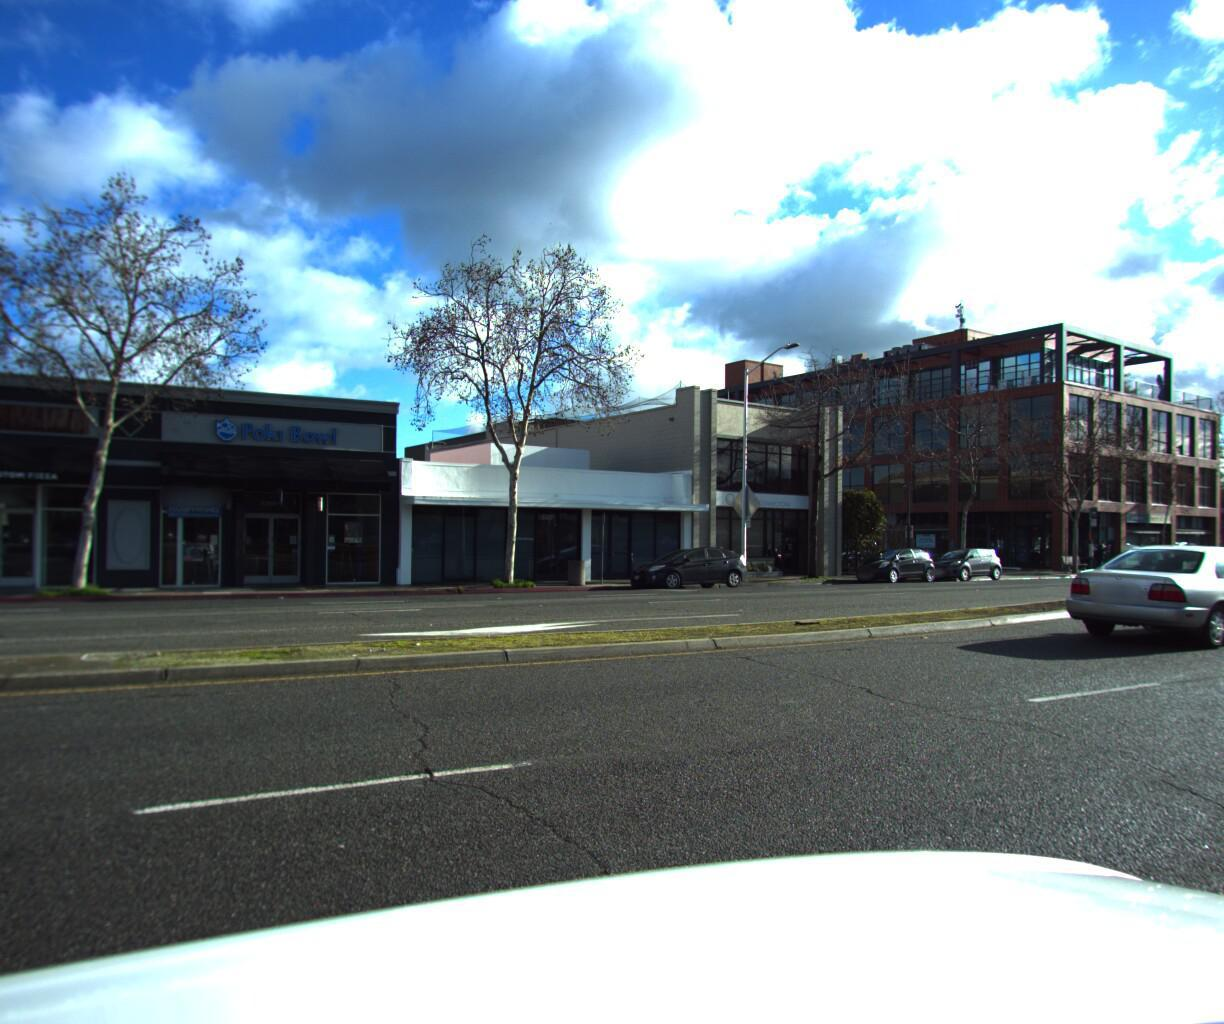car: (1040, 536, 1224, 650), (618, 540, 754, 593), (841, 540, 939, 582), (912, 542, 1007, 579)
